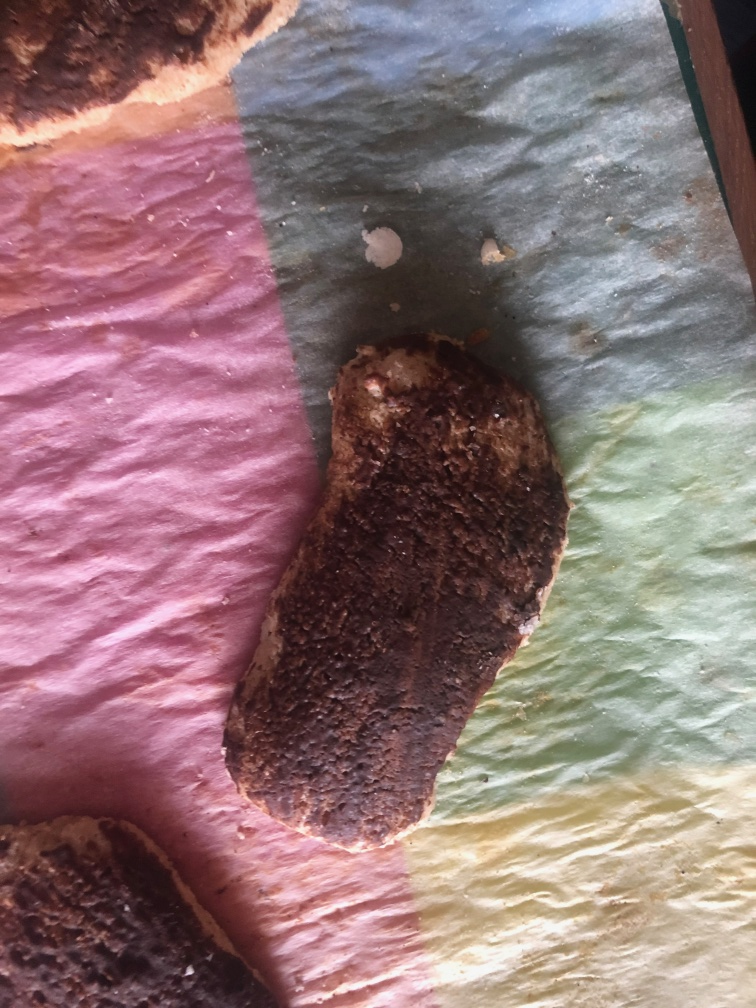weird #1: (213, 321, 578, 854), (1, 810, 295, 1008), (1, 1, 303, 150)
